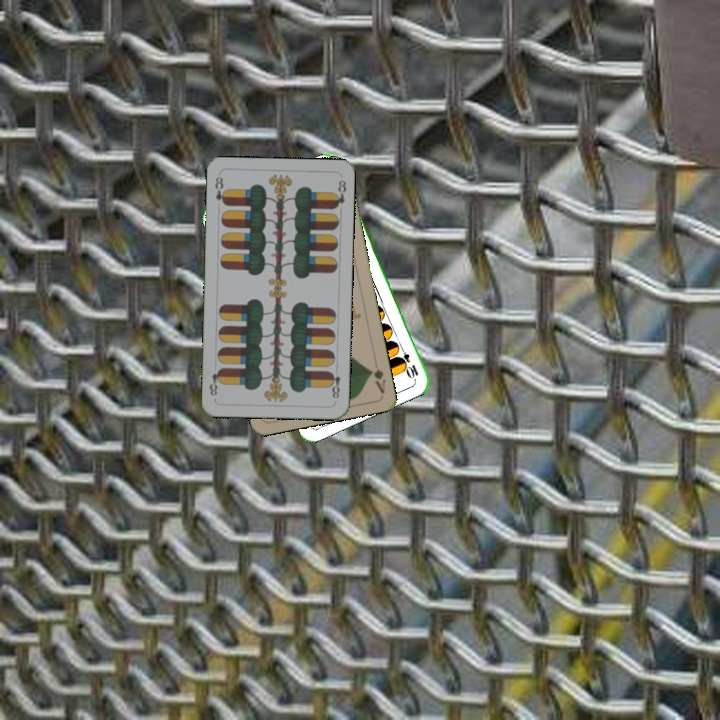E10: (394, 342, 421, 381)
E8: (325, 363, 343, 401), (211, 172, 229, 208)
GA: (366, 364, 388, 395)
